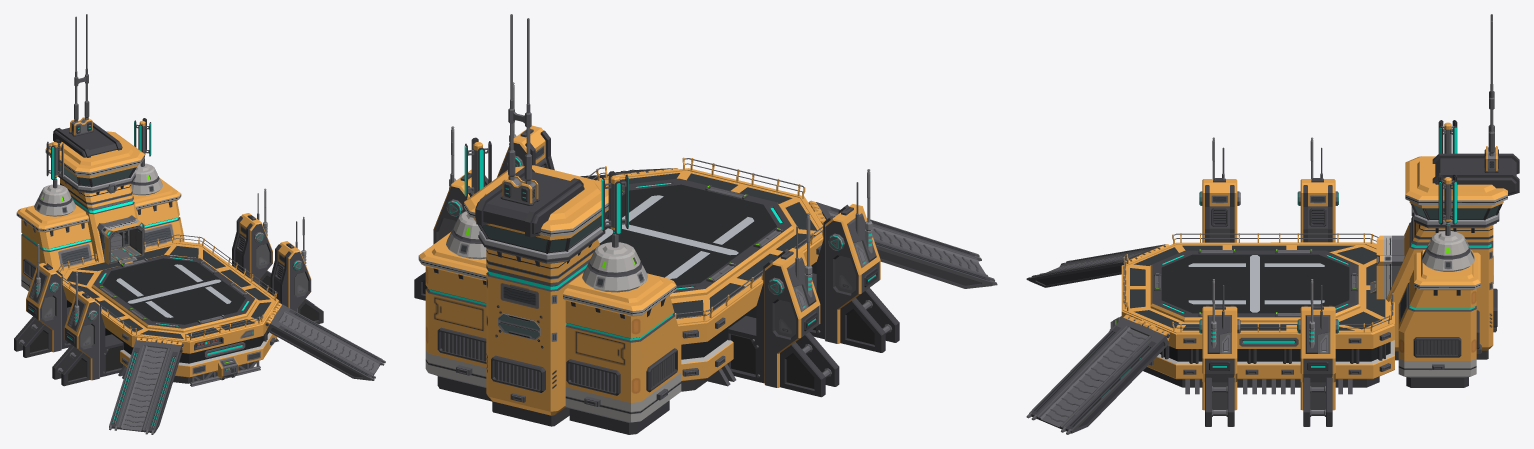
Rendered from landingPad.glb.
3 renders of one model, left to right at view 1: azimuth 30°, elevation 25°; view 2: azimuth 150°, elevation 25°; view 3: azimuth 270°, elevation 25°, orthographic. The views are drawn at different scales.
Visible parts, largest first — view 1: SM_Bld_Corp_LandingPad_03; view 2: SM_Bld_Corp_LandingPad_03; view 3: SM_Bld_Corp_LandingPad_03.
Boxes of the visible parts, left/top/right/bottom form: SM_Bld_Corp_LandingPad_03: left=14, top=14, right=385, bottom=434; SM_Bld_Corp_LandingPad_03: left=414, top=14, right=997, bottom=434; SM_Bld_Corp_LandingPad_03: left=1026, top=14, right=1519, bottom=434.
Bounding box in the file's own units: 51.57 × 46.21 × 62.23.
Materials: 1 (1 with a texture image).
